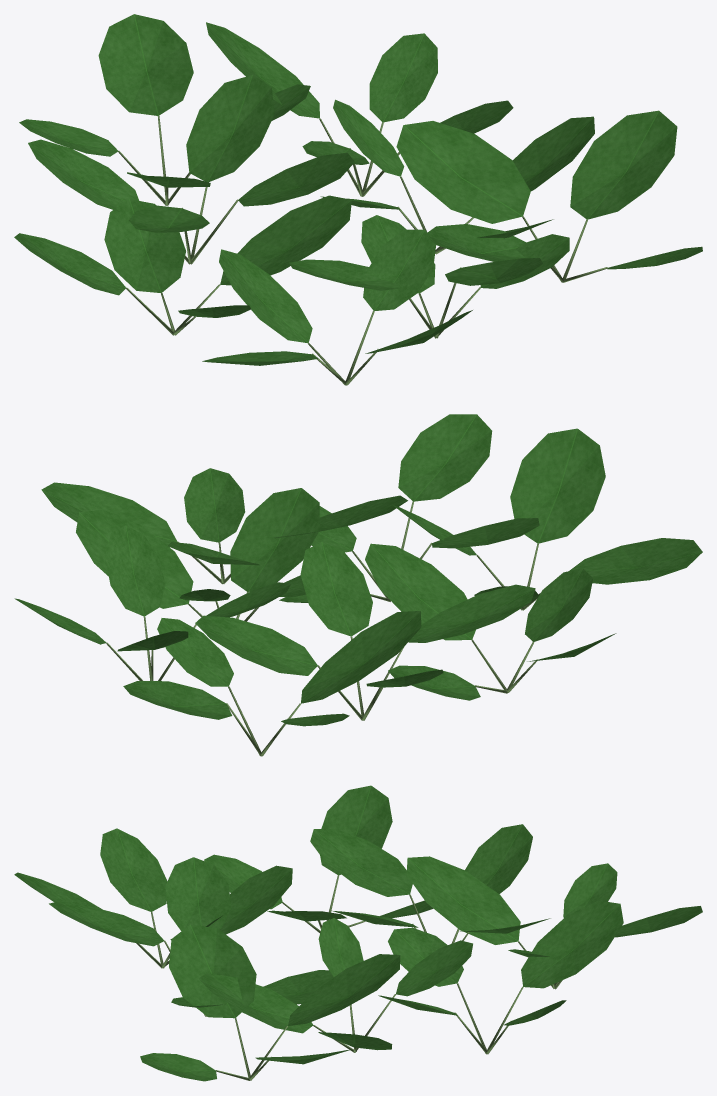
Rendered from Woodland_Forb_Rosette_01_LOD2.fbx.
3 views of the same model, one above another, from view 1: azimuth 30°, elevation 25°; view 2: azimuth 150°, elevation 25°; view 3: azimuth 270°, elevation 25° (orthographic). The views are drawn at different scales.
Parts seen in each view (by area): view 1: Woodland_Forb_Rosette_01_LOD2_Mesh; view 2: Woodland_Forb_Rosette_01_LOD2_Mesh; view 3: Woodland_Forb_Rosette_01_LOD2_Mesh.
Boxes of the visible parts, left/top/right/bottom form: Woodland_Forb_Rosette_01_LOD2_Mesh: left=14, top=14, right=702, bottom=385; Woodland_Forb_Rosette_01_LOD2_Mesh: left=14, top=414, right=702, bottom=756; Woodland_Forb_Rosette_01_LOD2_Mesh: left=14, top=785, right=702, bottom=1081.
Bounding box in the file's own units: 66.68 × 13.98 × 74.13.
Materials: 2 (1 with a texture image).
